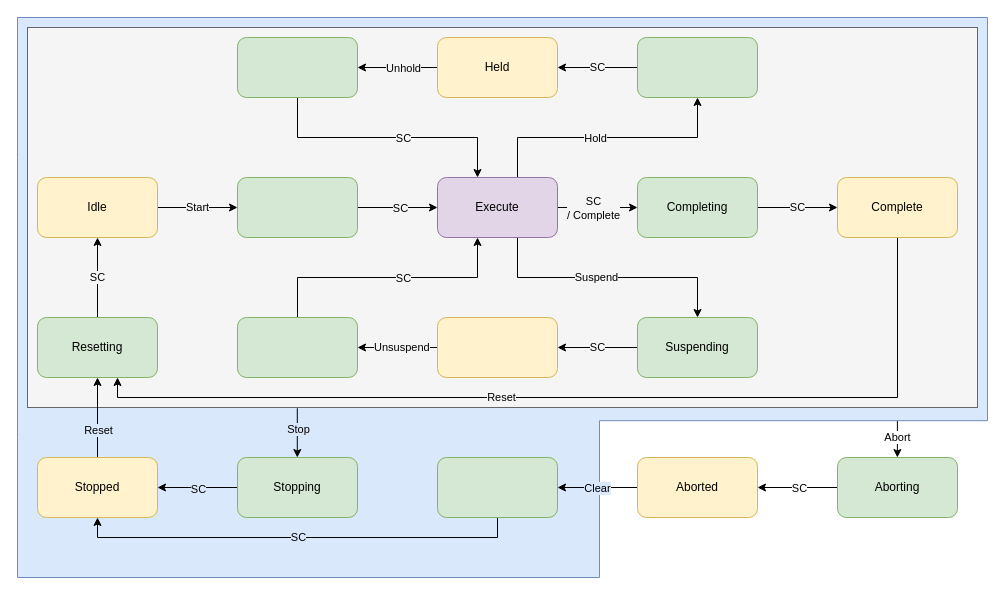
The diagram is 1005 pixels wide and 595 high, and some of its shapes have lost their labels. The shapes that lost their labels are listed below. From the top down, each one's box as (x1, y1, x2, y2) in pixels, then its label:
(236, 36, 358, 98): Unholding
(636, 36, 758, 98): Holding
(236, 176, 358, 238): Starting
(236, 316, 358, 378): Unsuspending
(436, 316, 558, 378): Suspended
(436, 456, 558, 518): Clearing
